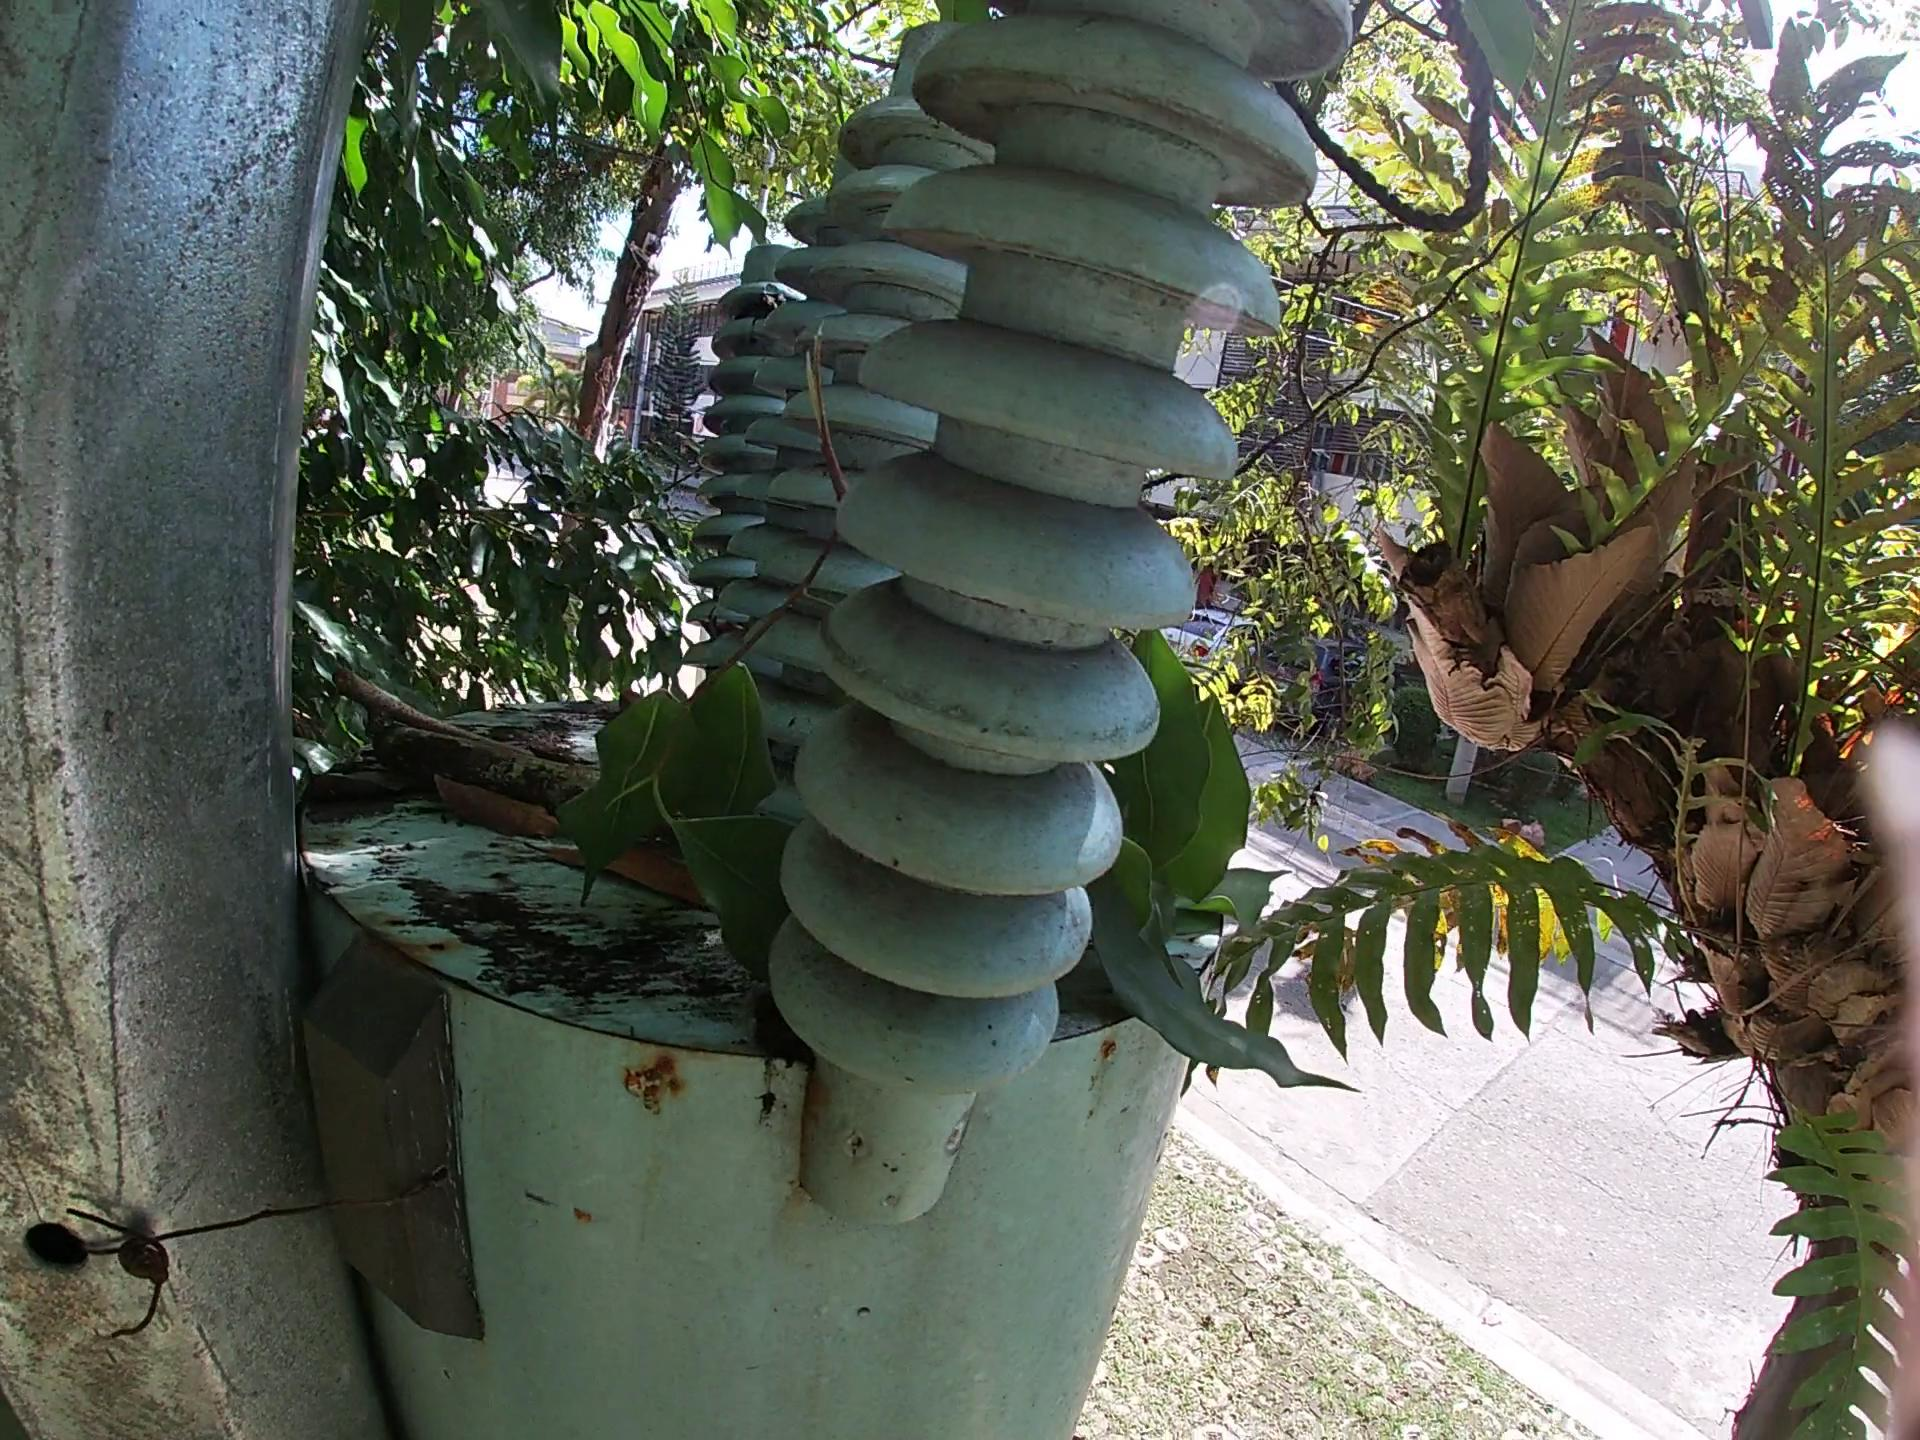branch with leaves: (578, 319, 890, 948)
leaf: (1048, 608, 1392, 1110), (565, 833, 697, 898), (308, 765, 392, 818), (447, 779, 537, 817)
tree branch: (395, 725, 639, 809), (342, 669, 463, 731)
